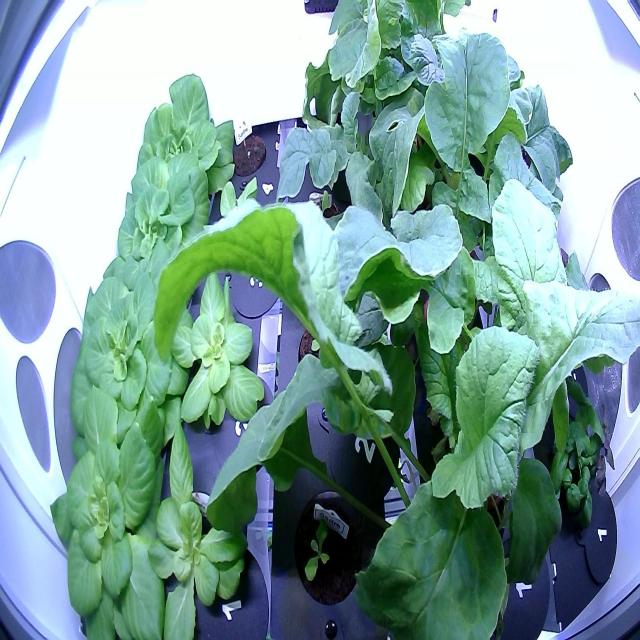pod: (222, 115, 270, 187)
young: (46, 386, 174, 640), (59, 266, 192, 492), (142, 417, 258, 639), (154, 266, 272, 440), (102, 140, 213, 306), (121, 66, 239, 205), (291, 476, 369, 606), (197, 174, 277, 278)
